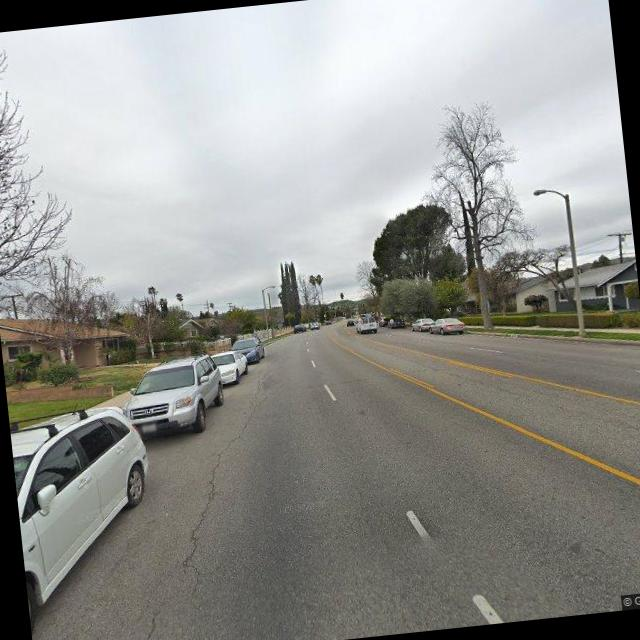pothole: (94, 372, 297, 640)
